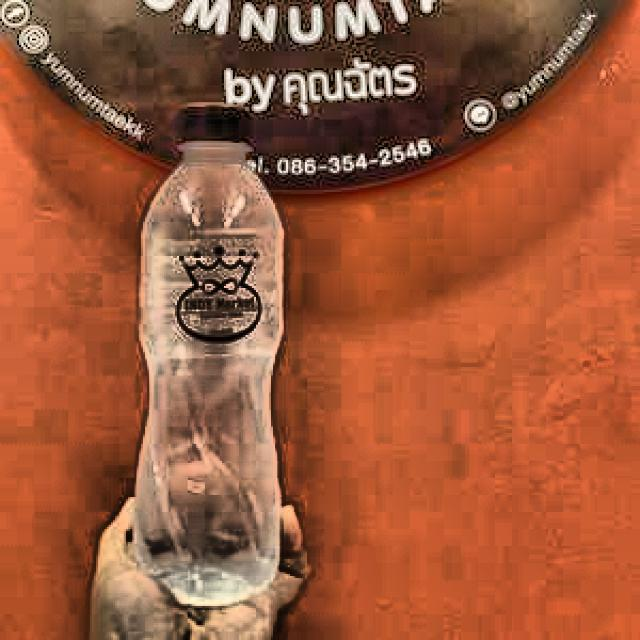Bottles: (103, 84, 336, 628)
